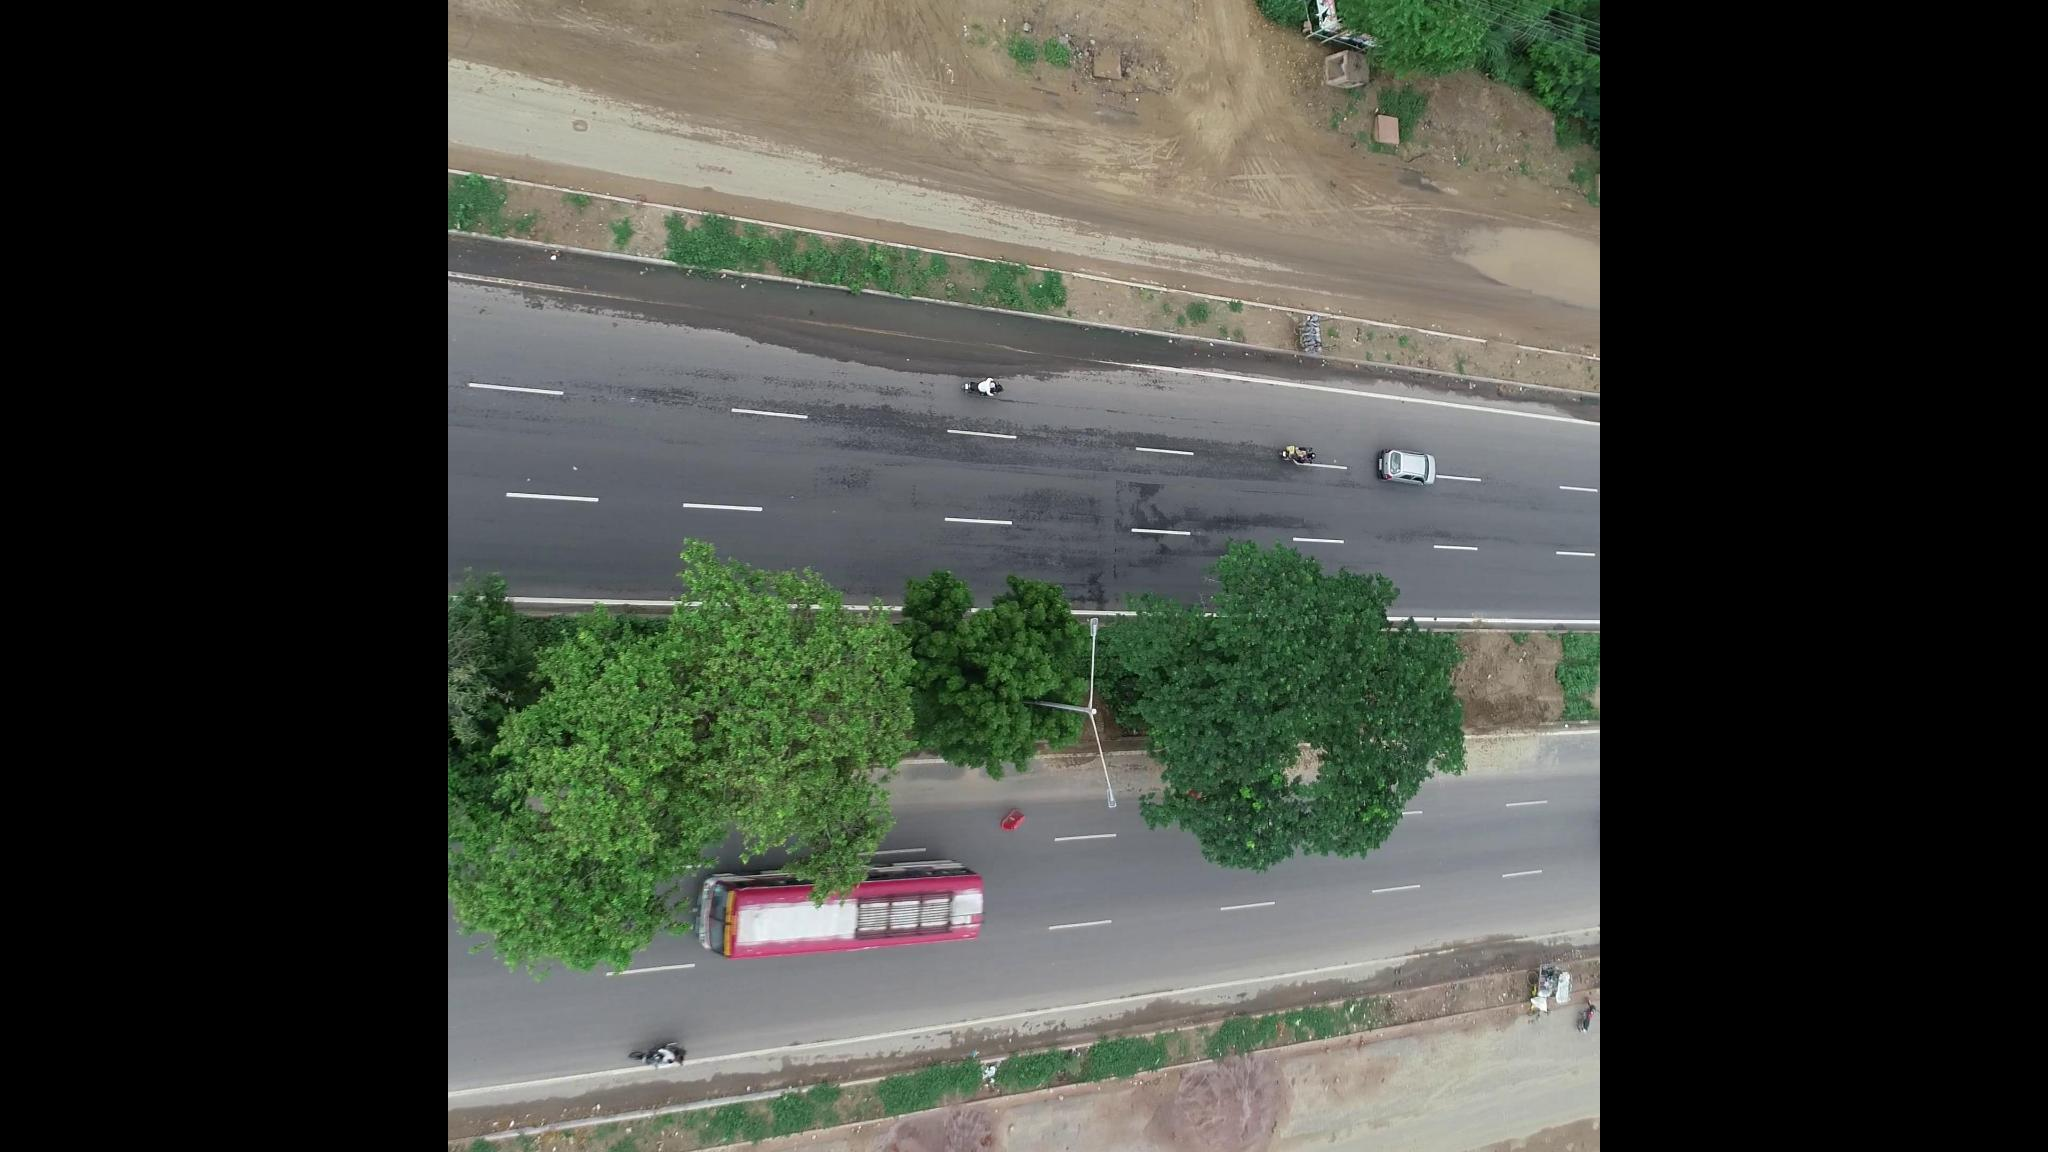Muddy_road: (1122, 1062, 1333, 1152), (783, 1117, 1023, 1152)
Ravelling: (843, 401, 1138, 475), (1153, 504, 1317, 543)
Waterlogging: (767, 276, 1037, 374)
